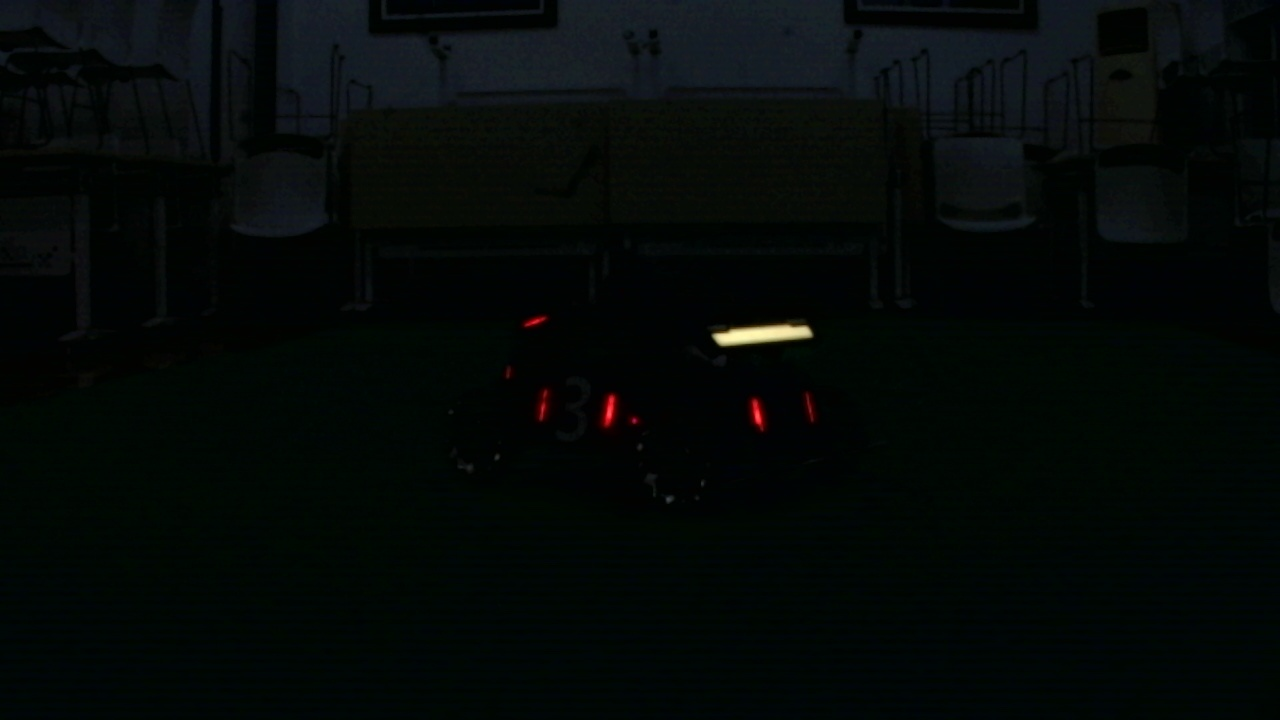lamp: (750, 395, 764, 433), (532, 391, 547, 425), (603, 392, 617, 427)
pair1: (529, 390, 618, 428)
